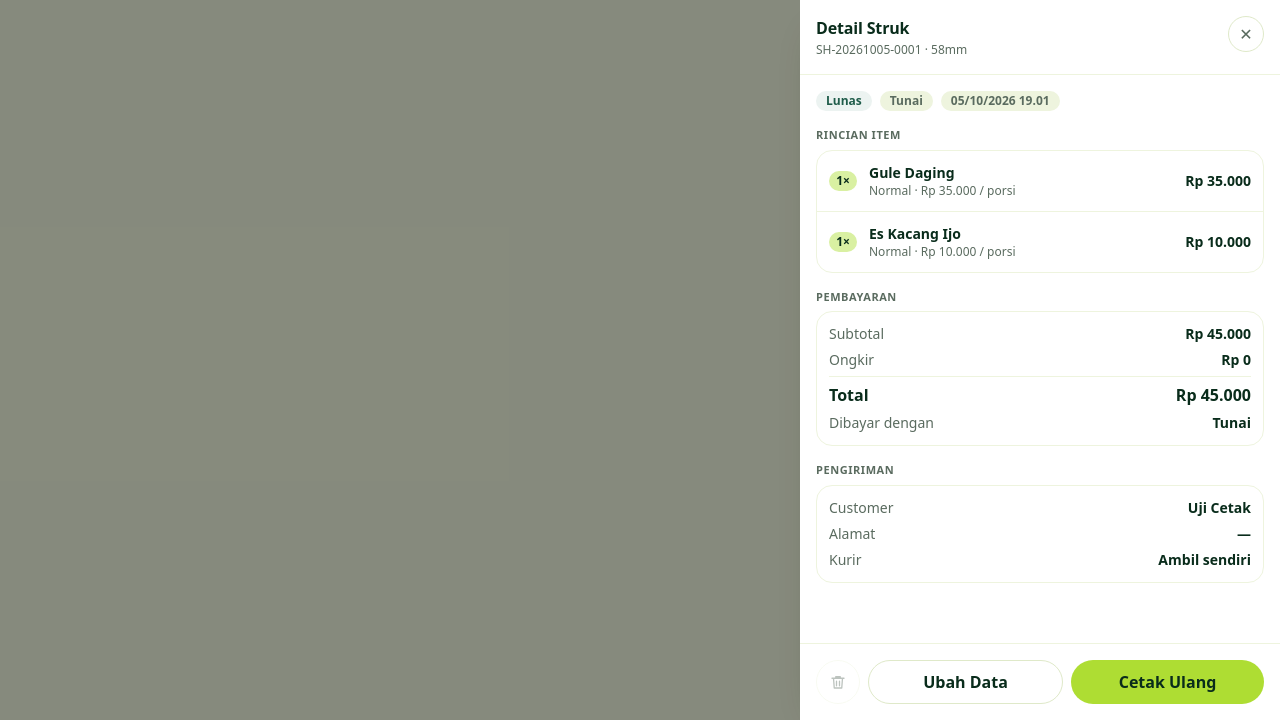
Test: Ubah Data di drawer struk › memperingatkan total akan berubah sebelum disimpan
Click the button "Ubah Data" at x=966, y=682, box [868, 660, 1063, 704]
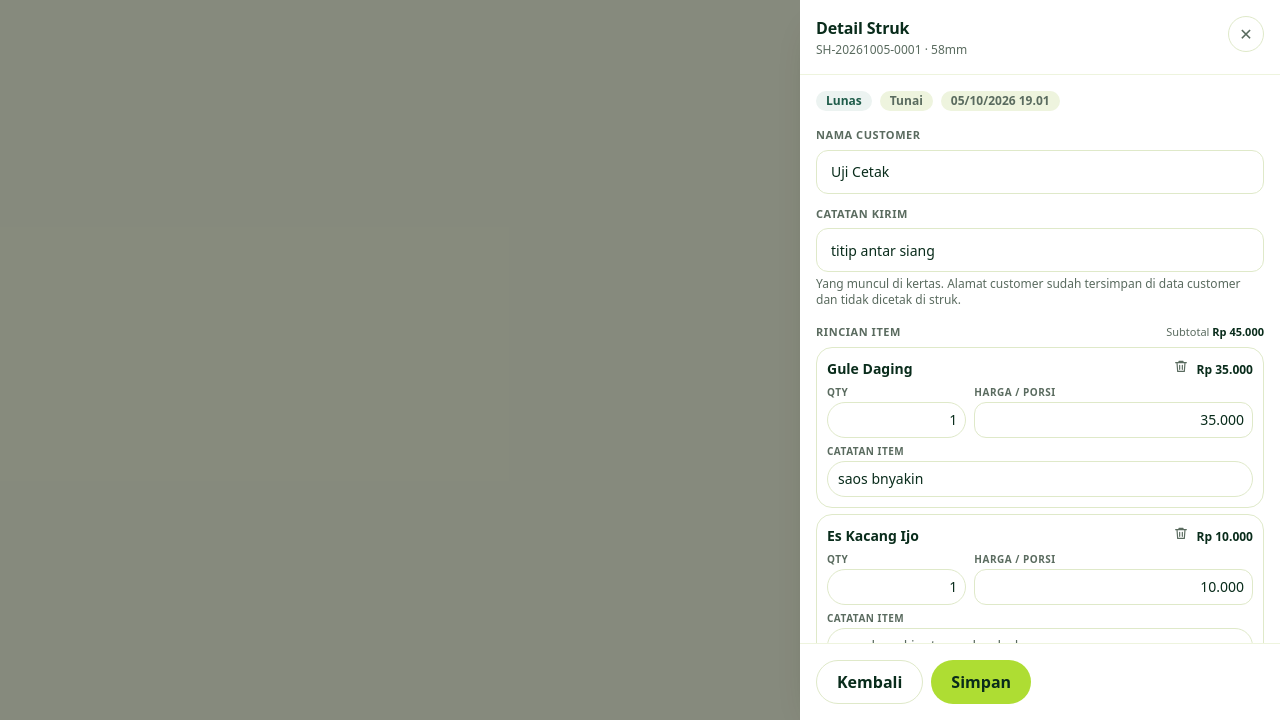
expect the text "Total berubah" is not shown: met
expect the field labelled "Catatan Kirim" is shown: met, box [816, 228, 1264, 272]
Replace the text in the field named "Harga per porsi Gule Daging" with "99000" at x=1114, y=420, box [974, 402, 1253, 438]
(page scrolled)
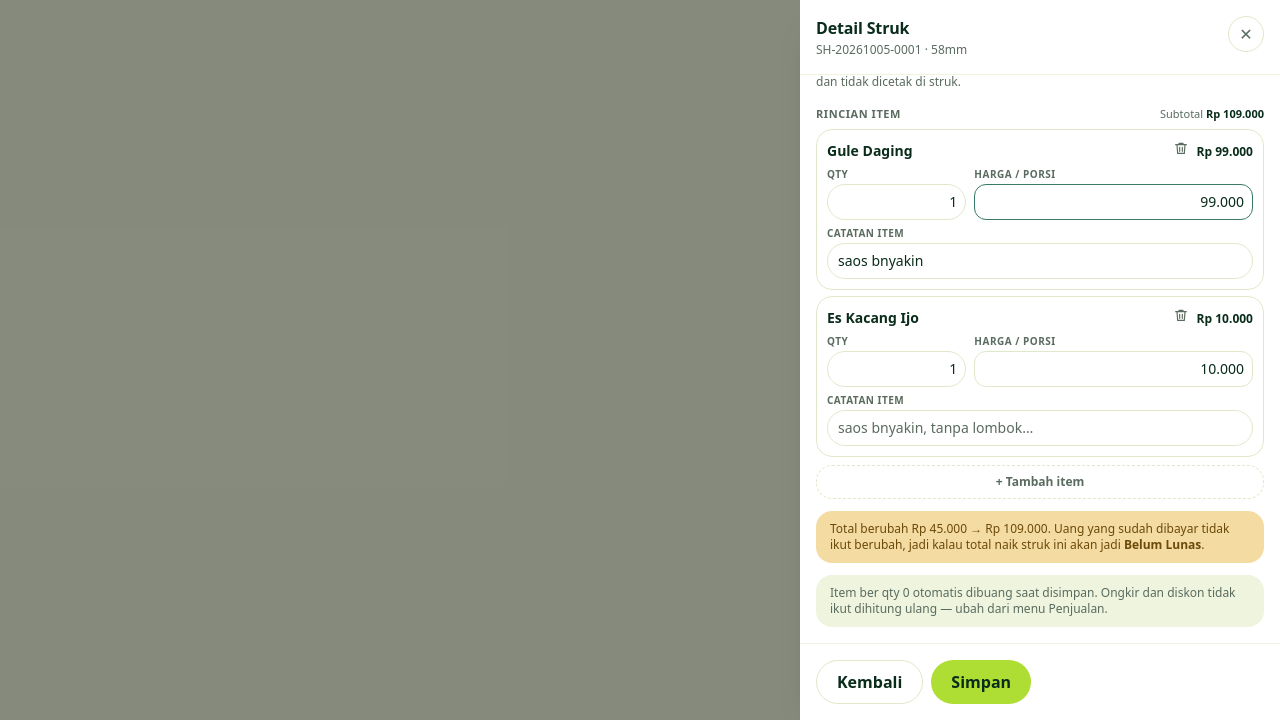
expect the text "Total berubah" is shown: met, box [830, 520, 912, 536]
